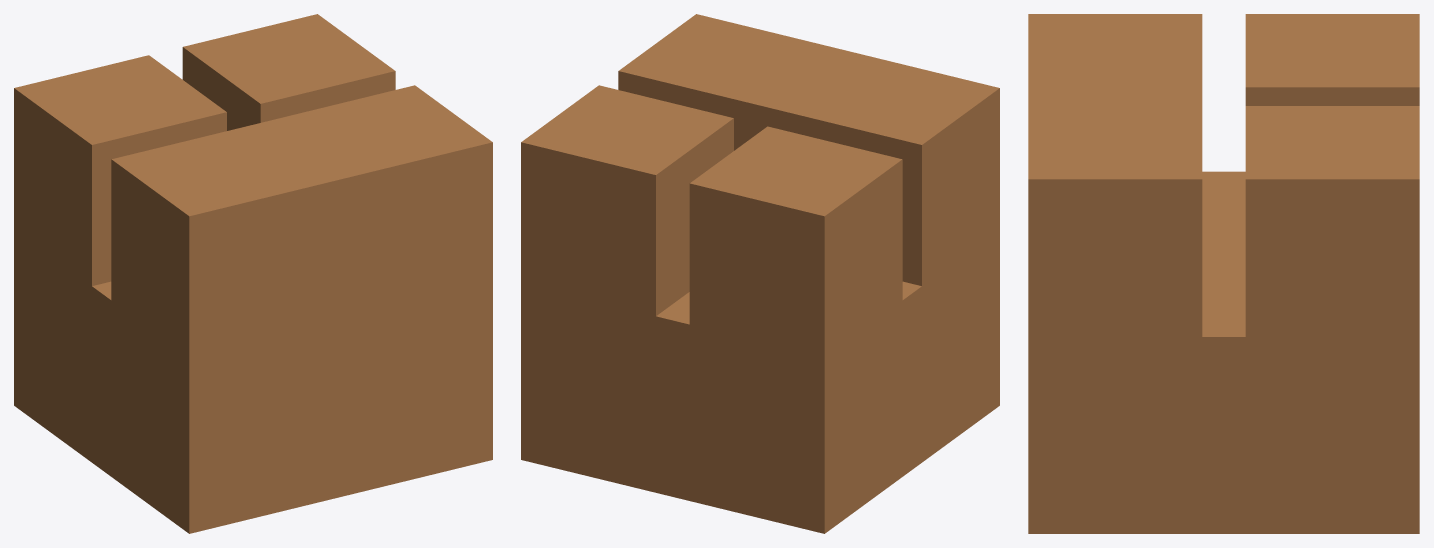
Rendered from Thin_TPiece_Model.fbx.
The picture shows the model from 3 angles, left to right: view 1: azimuth 30°, elevation 25°; view 2: azimuth 150°, elevation 25°; view 3: azimuth 270°, elevation 25°; orthographic projection. The views are drawn at different scales.
Visible parts, largest first — view 1: Cube; view 2: Cube; view 3: Cube.
Part boxes in pixels (x1,y1,x2,y2): Cube: (14, 14, 492, 533); Cube: (521, 14, 999, 533); Cube: (1028, 14, 1419, 533).
Size of the model in its own units: 100 by 100 by 100.
